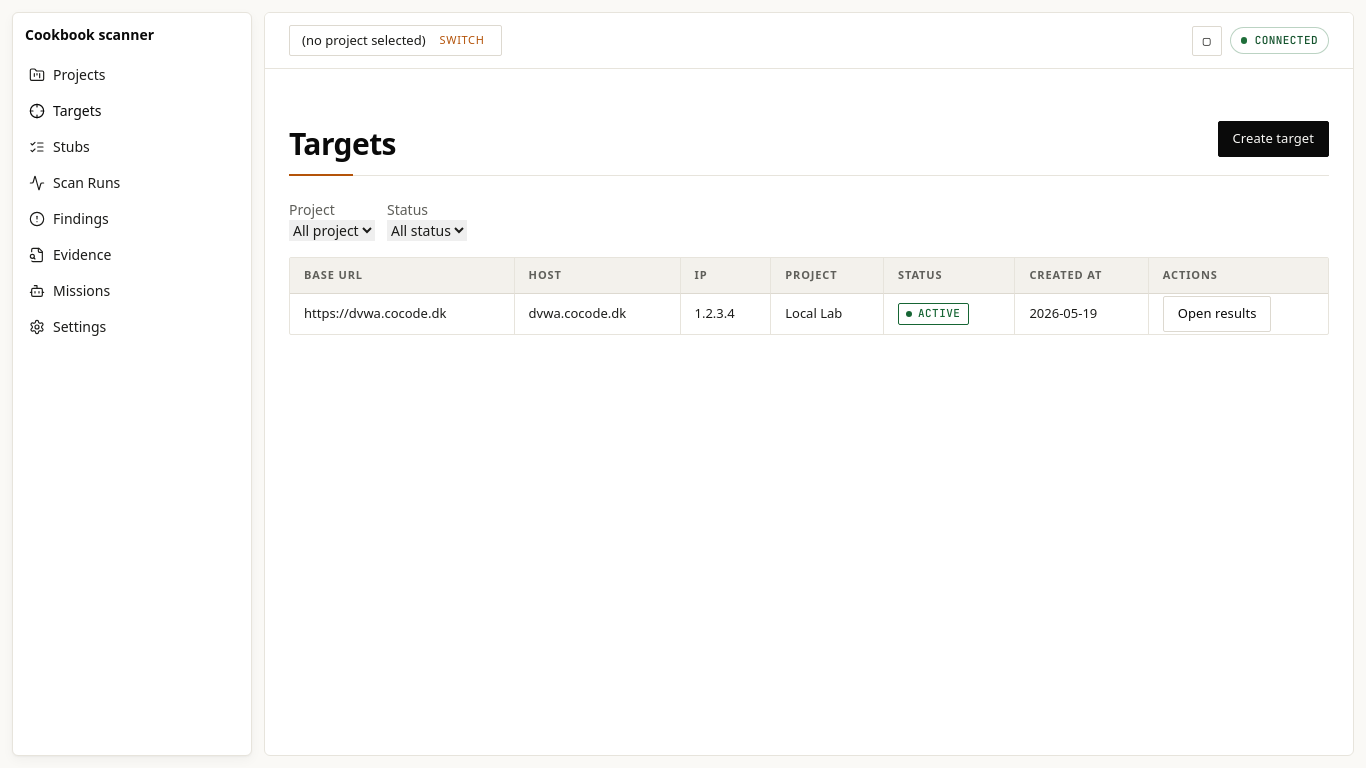
Scenario: end-to-end · target result › navigates from /targets to /targets/:id/results and renders all 5 sections
Check: the text "https://dvwa.cocode.dk" is shown, box x1=290 y1=294 x2=515 y2=334
Click the link "Open results" at (1217, 314), box x1=1163 y1=296 x2=1272 y2=332
(page scrolled)
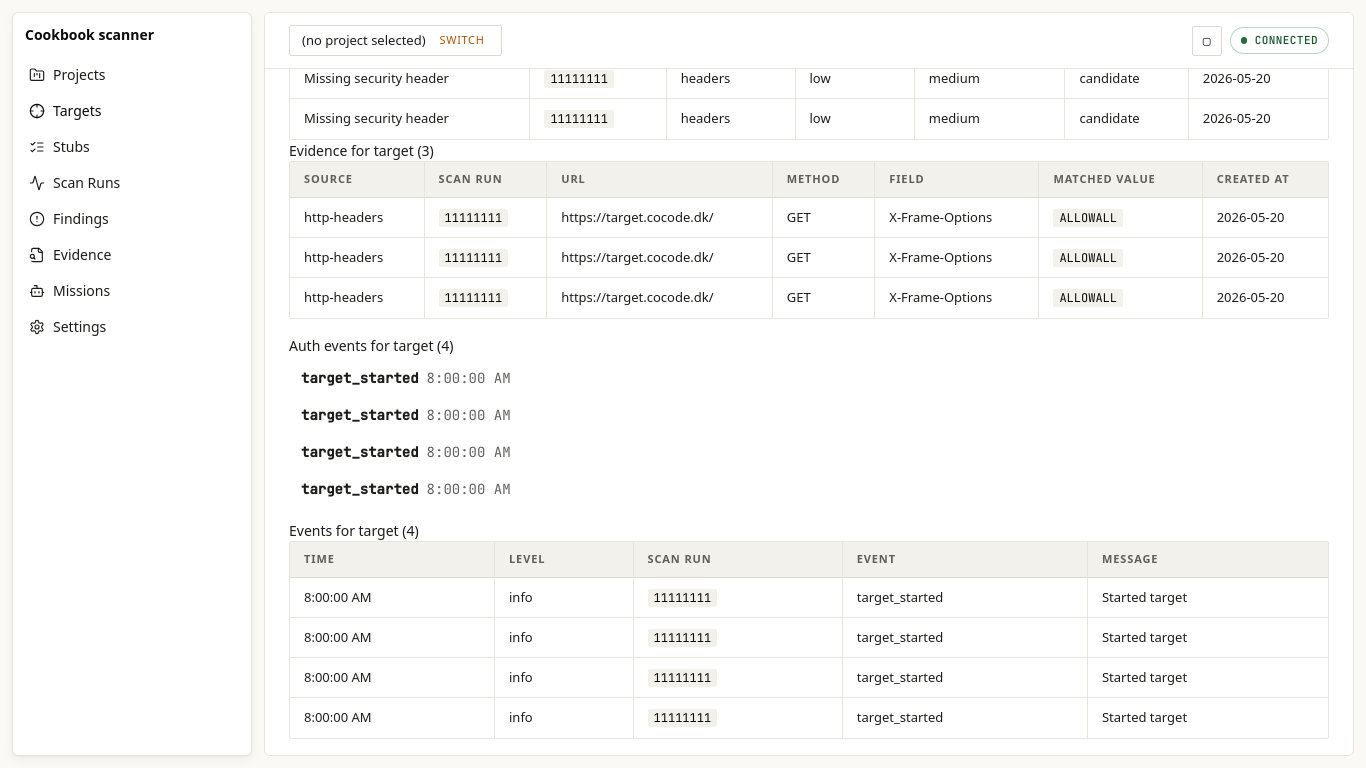
Check: the element with test id "target-evidence-section" is shown, box x1=289 y1=140 x2=1329 y2=319
Check: the element with test id "target-events-section" is shown, box x1=289 y1=520 x2=1329 y2=739
